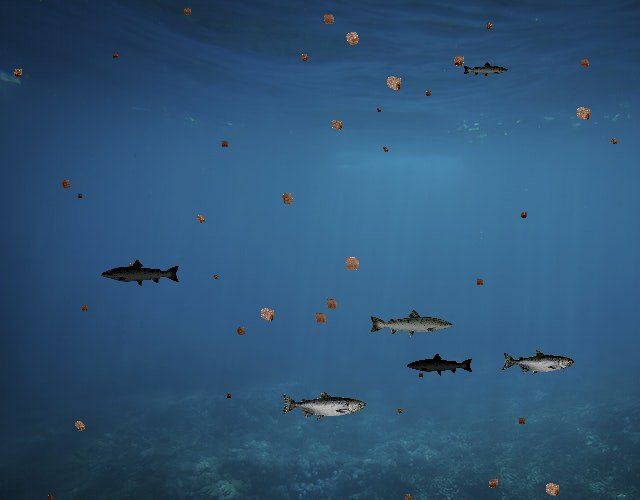Fish: (368, 308, 454, 339), (280, 390, 366, 421), (101, 259, 182, 288), (501, 349, 574, 376), (406, 352, 474, 377), (462, 62, 509, 79)
Pellet: (68, 415, 90, 437), (575, 54, 594, 73), (516, 208, 530, 222), (422, 88, 435, 101), (109, 50, 121, 62), (210, 272, 220, 282)
